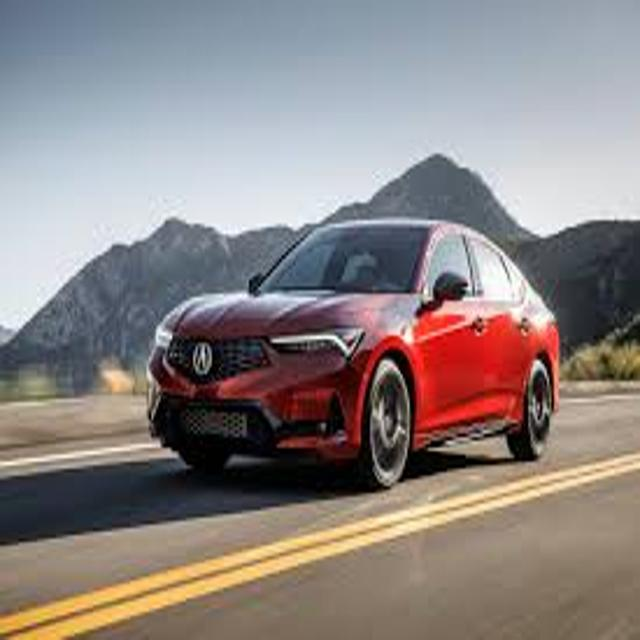car: (148, 219, 559, 487)
